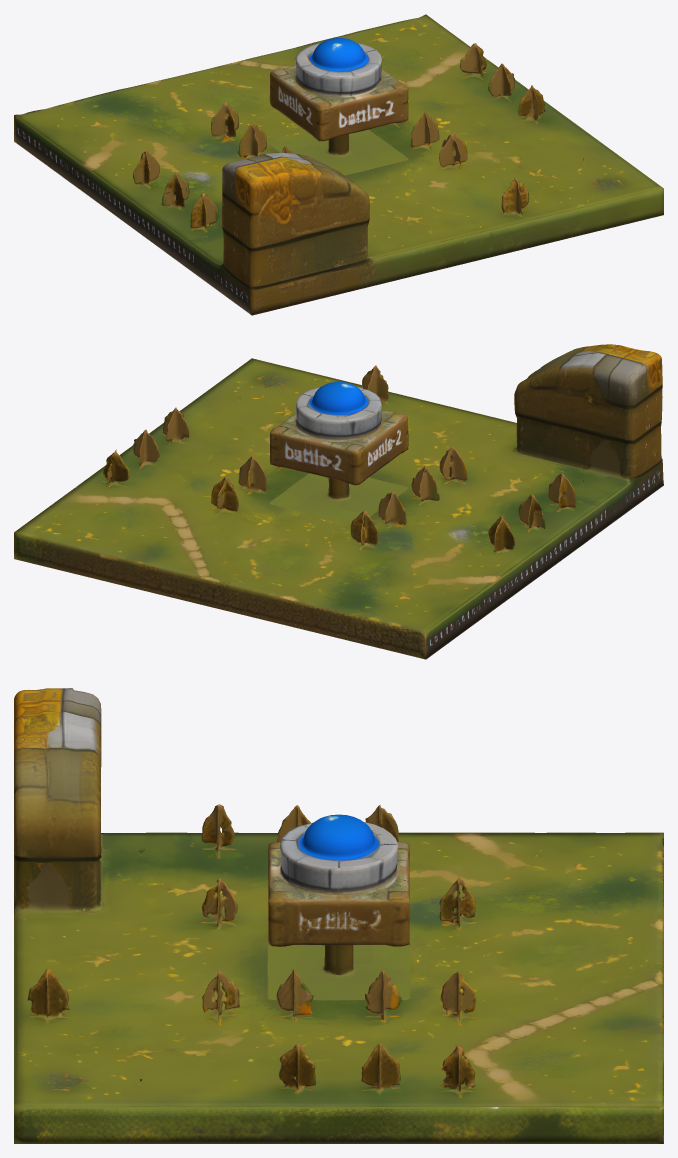
Rendered from path-node.glb.
The picture shows the model from 3 angles, top to bottom: view 1: azimuth 30°, elevation 25°; view 2: azimuth 150°, elevation 25°; view 3: azimuth 270°, elevation 25°; orthographic projection. The views are drawn at different scales.
Parts seen in each view (by area): view 1: model; view 2: model; view 3: model.
Boxes of the visible parts, x1,y1,x2,y2 form: model: [14, 14, 663, 315]; model: [14, 344, 663, 659]; model: [14, 688, 663, 1143].
Size of the model in its own units: 1.9 by 0.6005 by 1.9.
Materials: 1 (1 with a texture image).
